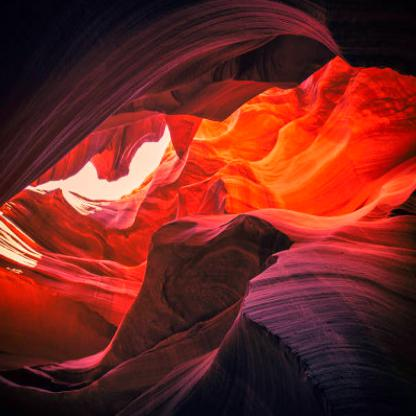Sedimentary_Sandstone: (241, 237, 415, 415), (0, 0, 415, 70), (138, 212, 236, 415), (0, 82, 128, 167)
